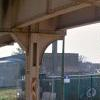Bridge: (9, 6, 95, 64)
